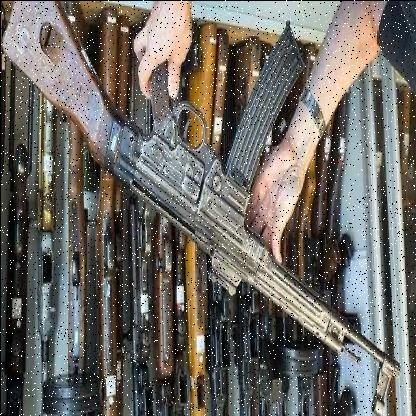rifle: (1, 1, 401, 404)
